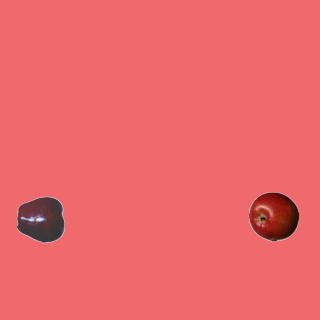Apple Braeburn: (248, 191, 298, 241)
Apple Red Delicious: (16, 194, 66, 244)
